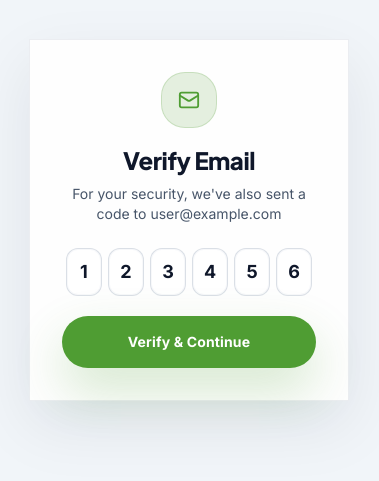
Test case: EmailOtpView › shows an error and does not store a token when the email code is wrong
Click the button "Verify & Continue" at point(189, 342), box x1=62 y1=316 x2=316 y2=368
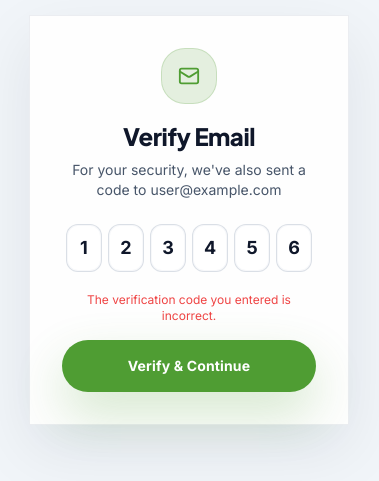
Check: the text "The verification code you entered is incorrect." is shown, box x1=87 y1=292 x2=291 y2=323
